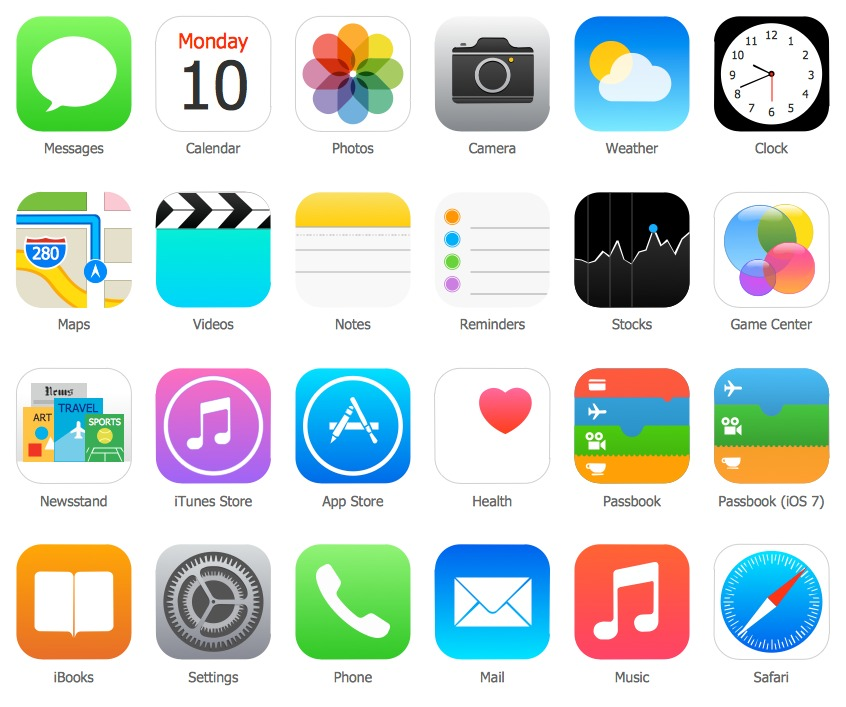calendar: (150, 4, 279, 149)
camera: (426, 23, 556, 136)
clock: (708, 10, 829, 135)
phonemessages: (23, 6, 128, 138)
